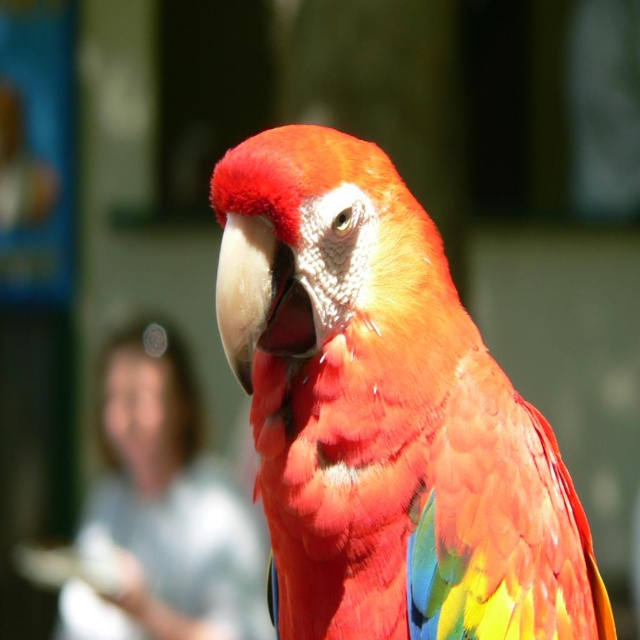Parrot: (211, 122, 618, 639)
